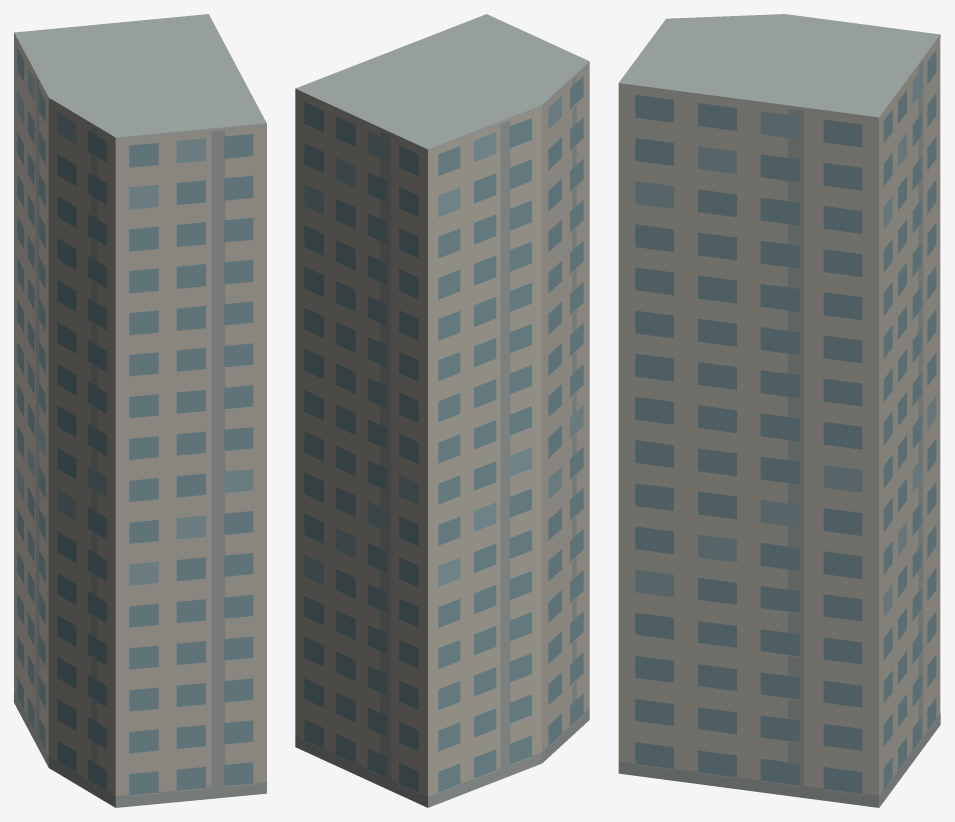
File: residential-c233ea65-52bd-42c0-9543-3eae2f5a5447.glb
3 views of the same model, side by side, from view 1: azimuth 30°, elevation 25°; view 2: azimuth 150°, elevation 25°; view 3: azimuth 270°, elevation 25° (orthographic). The views are drawn at different scales.
Visible parts, largest first — view 1: residential-c233ea65-52bd-42c0-9543-3eae2f5a5447.tmp; view 2: residential-c233ea65-52bd-42c0-9543-3eae2f5a5447.tmp; view 3: residential-c233ea65-52bd-42c0-9543-3eae2f5a5447.tmp.
Boxes of the visible parts, x1,y1,x2,y2 form: residential-c233ea65-52bd-42c0-9543-3eae2f5a5447.tmp: [14, 14, 266, 807]; residential-c233ea65-52bd-42c0-9543-3eae2f5a5447.tmp: [295, 14, 589, 807]; residential-c233ea65-52bd-42c0-9543-3eae2f5a5447.tmp: [618, 14, 940, 807].
Bounding box in the file's own units: 17.34 × 54 × 22.82.
